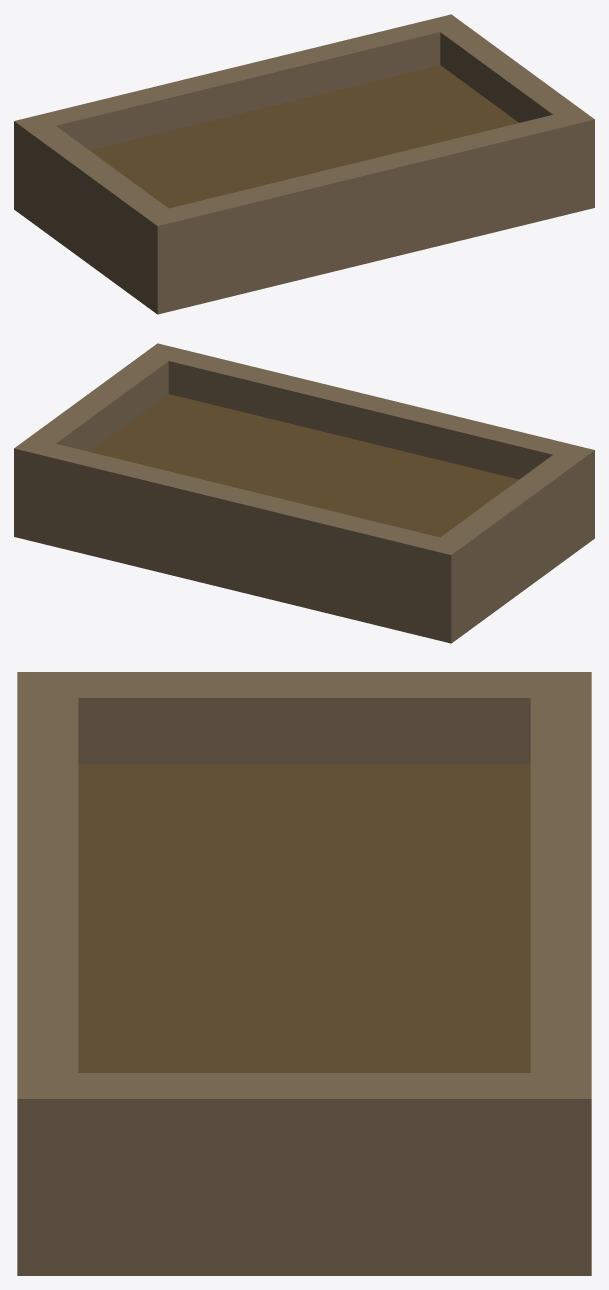
File: GardenBox.fbx
3 renders of one model, top to bottom at view 1: azimuth 30°, elevation 25°; view 2: azimuth 150°, elevation 25°; view 3: azimuth 270°, elevation 25°, orthographic. The views are drawn at different scales.
Parts seen in each view (by area): view 1: GardenBox2; view 2: GardenBox2; view 3: GardenBox2.
Boxes of the visible parts, bbox=[...] form: GardenBox2: bbox=[14, 14, 594, 314]; GardenBox2: bbox=[14, 343, 594, 643]; GardenBox2: bbox=[17, 672, 591, 1275].
Size of the model in its own units: 0.0826 by 0.016 by 0.047.
